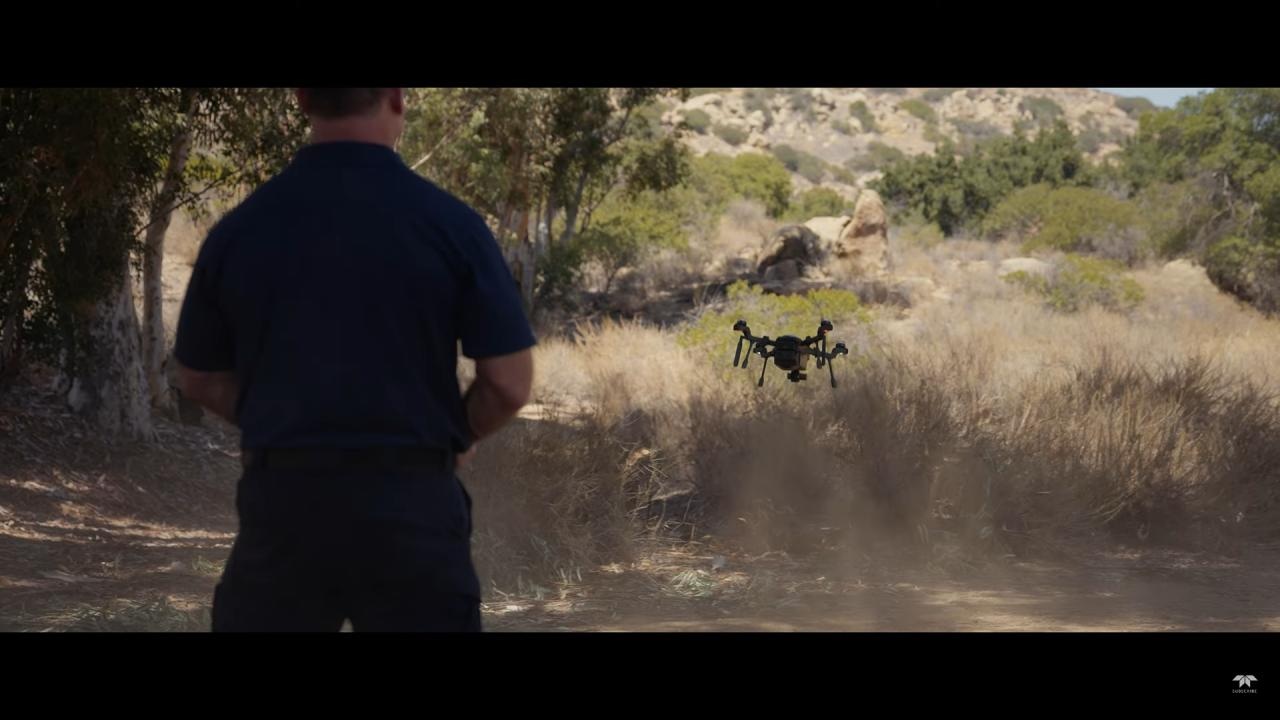Drone: (720, 310, 860, 397)
